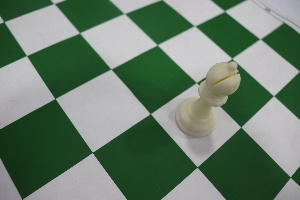white_bishop: (173, 35, 247, 158)
